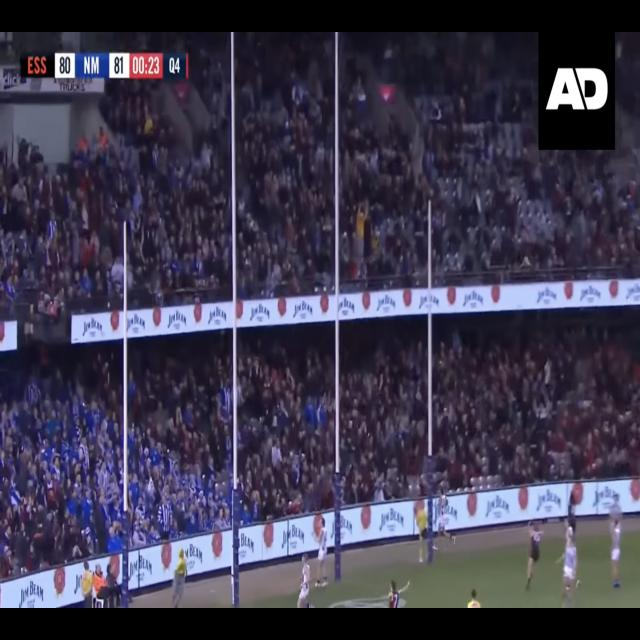crowd: (338, 37, 640, 291), (0, 55, 234, 322), (433, 303, 638, 495), (0, 349, 127, 581), (234, 33, 337, 301), (128, 334, 234, 544), (236, 325, 335, 526), (338, 313, 428, 511)
